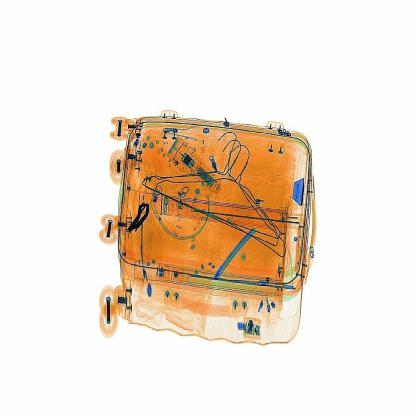pliers: (200, 214, 259, 288)
